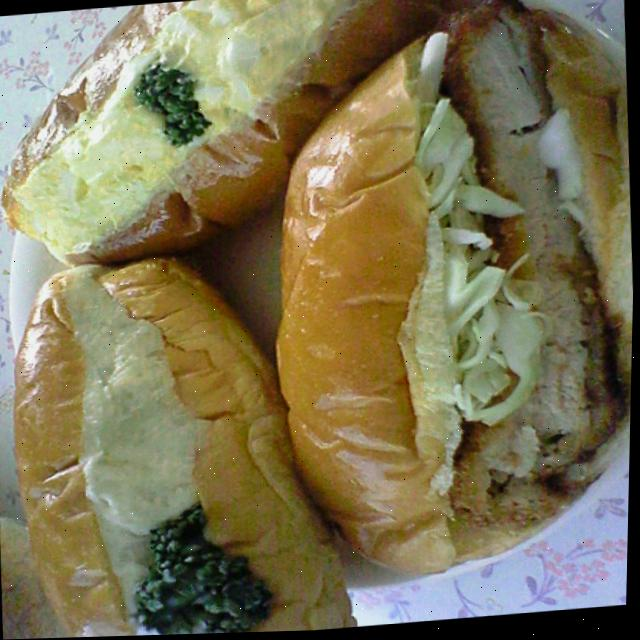三明治: (266, 0, 640, 585), (4, 227, 374, 640), (15, 0, 499, 267)
